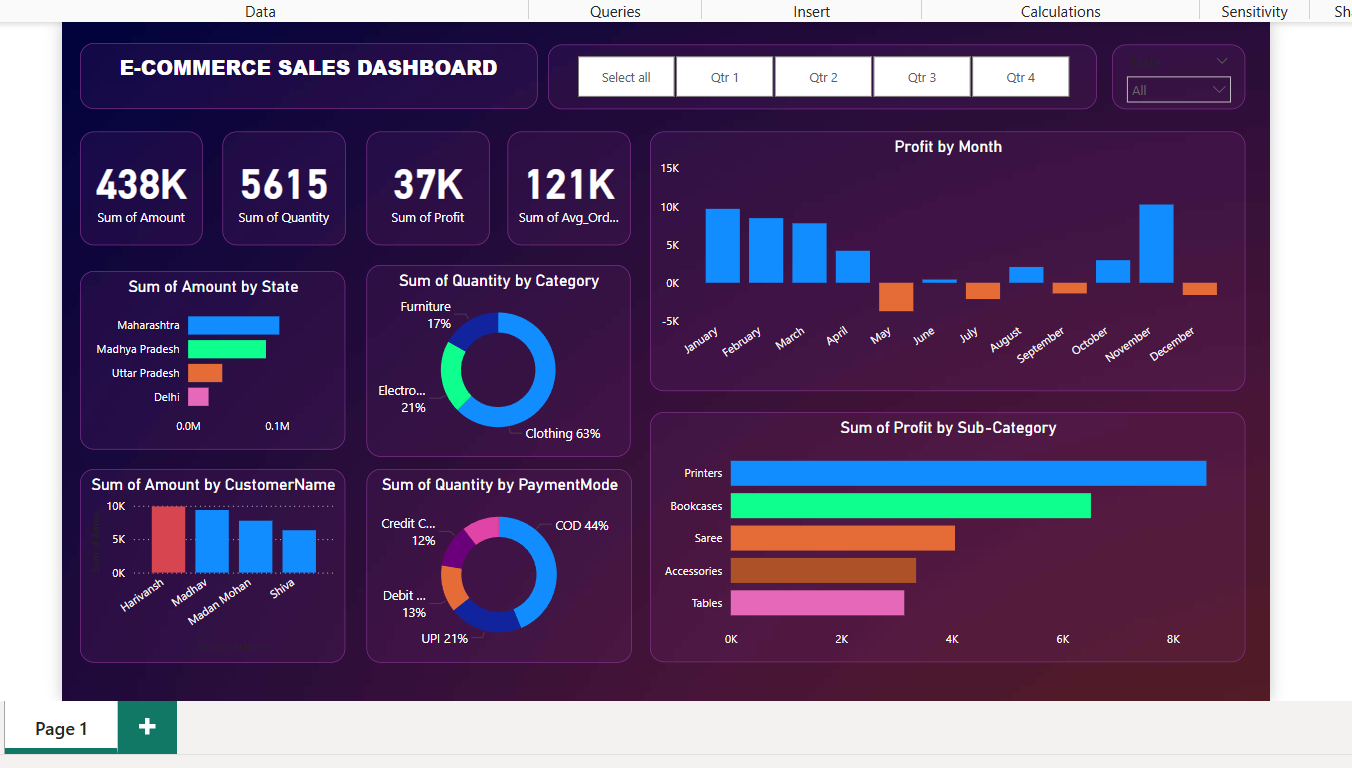

The page's visual inventory and layout, read from the dashboard file:
{"tool":"powerbi","page":{"name":"Page 1","canvas":[1280,720],"ordinal":0},"visuals":[{"type":"textbox","box":[19.1,22.3,485.1,70],"z":0},{"type":"columnChart","title":"Profit by Month","fields":{"Y":["details copy.Profit"],"Category":["Copy of orders1.Order Date.Variation.Date Hierarchy.Month"]},"box":[623.5,116.1,631.5,275.2],"z":1000},{"type":"barChart","fields":{"Category":["details copy.Sub-Category"],"Y":["details copy.Profit"]},"box":[623.5,413.6,631.5,265.6],"z":2000},{"type":"donutChart","fields":{"Category":["details copy.Category"],"Y":["details copy.Quantity"]},"box":[322.9,257.7,279.9,203.6],"z":3000},{"type":"donutChart","fields":{"Y":["details copy.Quantity"],"Category":["details copy.PaymentMode"]},"box":[322.9,474,281.5,205.2],"z":4000},{"type":"card","fields":{"Values":["details copy.Amount"]},"box":[19.1,116.1,130,120.9],"z":5000},{"type":"card","fields":{"Values":["details copy.Quantity"]},"box":[170.2,116.1,130.4,120.9],"z":6000},{"type":"card","fields":{"Values":["details copy.Profit"]},"box":[322.9,116.1,130.4,120.9],"z":7000},{"type":"card","fields":{"Values":["details copy.Avg_Order_val"]},"box":[472.4,116.1,130.4,120.9],"z":8000},{"type":"barChart","fields":{"Category":["Copy of orders1.State"],"Y":["details copy.Amount"]},"box":[19.1,264,281.5,189.3],"z":9000},{"type":"columnChart","fields":{"Category":["Copy of orders1.CustomerName"],"Y":["details copy.Amount"]},"box":[19.1,474,281.5,205.2],"z":10000},{"type":"slicer","fields":{"Values":["Copy of orders1.Order Date.Variation.Date Hierarchy.Quarter"]},"box":[515.4,23.9,582.2,68.4],"z":11000},{"type":"slicer","fields":{"Values":["Copy of orders1.State"]},"box":[1113.4,23.9,141.6,68.4],"z":12000}]}

Visuals, with their boxes in screenshot pixels (x1, y1, x2, y2):
textbox: 0/16/486/89
"Profit by Month" columnChart: 611/114/1269/401
barChart - details copy.Sub-Category x details copy.Profit: 611/424/1269/700
donutChart - details copy.Category x details copy.Quantity: 298/261/589/473
donutChart - details copy.Quantity x details copy.PaymentMode: 298/487/591/700
card - details copy.Amount: 0/114/117/240
card - details copy.Quantity: 139/114/274/240
card - details copy.Profit: 298/114/433/240
card - details copy.Avg_Order_val: 453/114/589/240
barChart - Copy of orders1.State x details copy.Amount: 0/268/274/465
columnChart - Copy of orders1.CustomerName x details copy.Amount: 0/487/274/700
slicer - Copy of orders1.Order Date.Variation.Date Hierarchy.Quarter: 498/18/1105/89
slicer - Copy of orders1.State: 1121/18/1269/89
